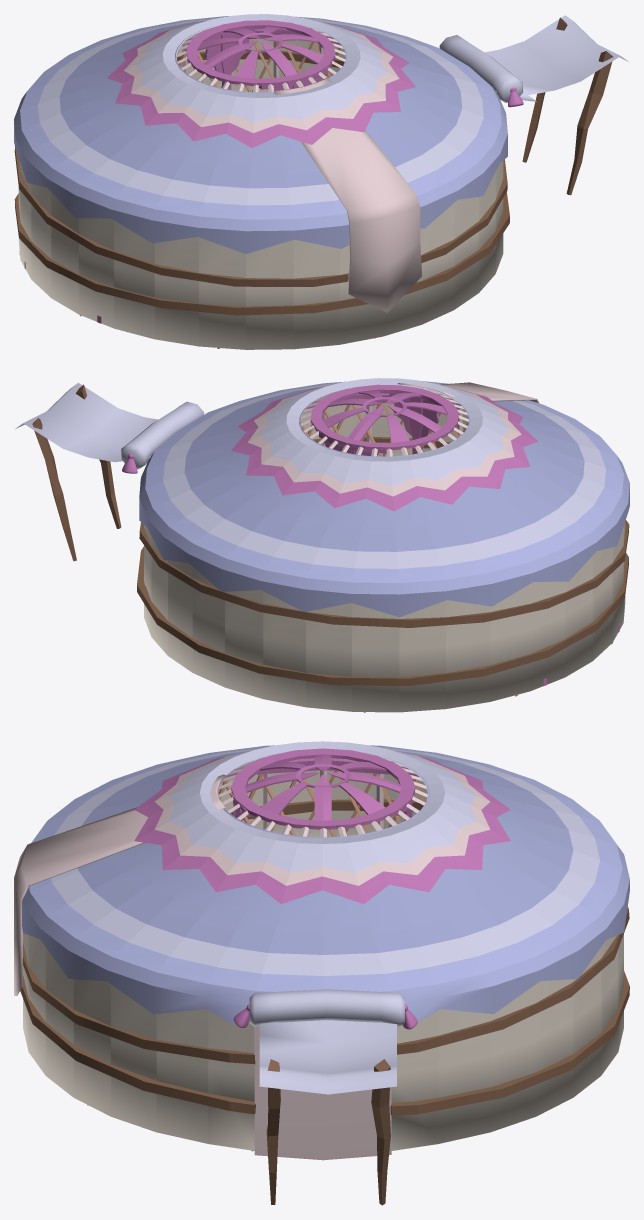
File: yurte_combined.fbx
3 views of the same model, one above another, from view 1: azimuth 30°, elevation 25°; view 2: azimuth 150°, elevation 25°; view 3: azimuth 270°, elevation 25° (orthographic). The views are drawn at different scales.
Parts seen in each view (by area): view 1: yurte_combined; view 2: yurte_combined; view 3: yurte_combined.
Part boxes in pixels (x1,y1,x2,y2): yurte_combined: [14, 14, 628, 349]; yurte_combined: [15, 378, 629, 712]; yurte_combined: [14, 741, 629, 1205].
Bounding box in the file's own units: 29.61 × 10.69 × 23.06.
